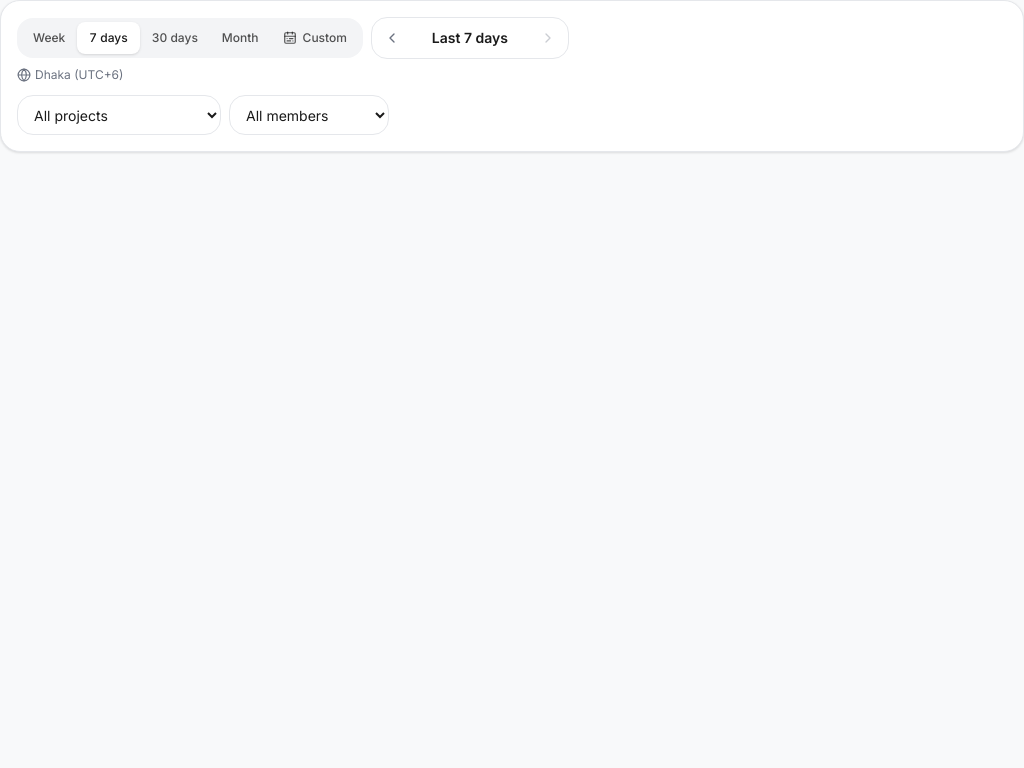
Scenario: PeriodToolbar — custom range › Custom opens a from/to form, prefilled with the 7 days ending today, naming the reporting zone
Click the button "Custom": x=315, y=38 [271,22,359,54]
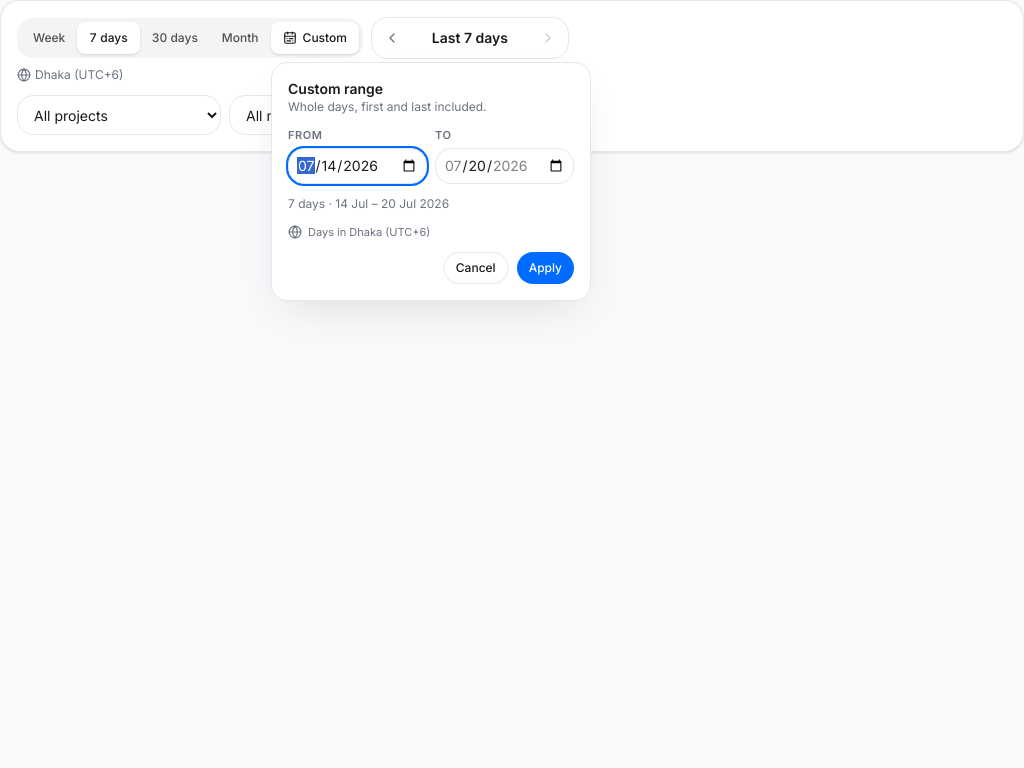
Now the date field labelled "From" holds "2026-07-14", box [288,148,427,184]
Now the date field labelled "To" holds "2026-07-20", box [435,148,574,184]
Now the text "7 days · 14 Jul – 20 Jul 2026" is shown, box [288,196,449,210]
